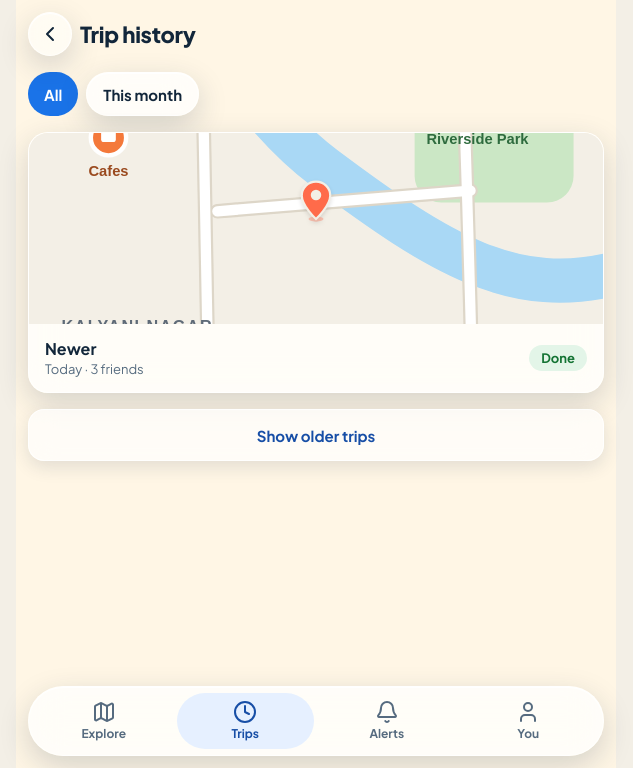
Test: Trip history › loads older trips on request
Click the button "Show older trips" at (316, 435), box [28,409,604,461]
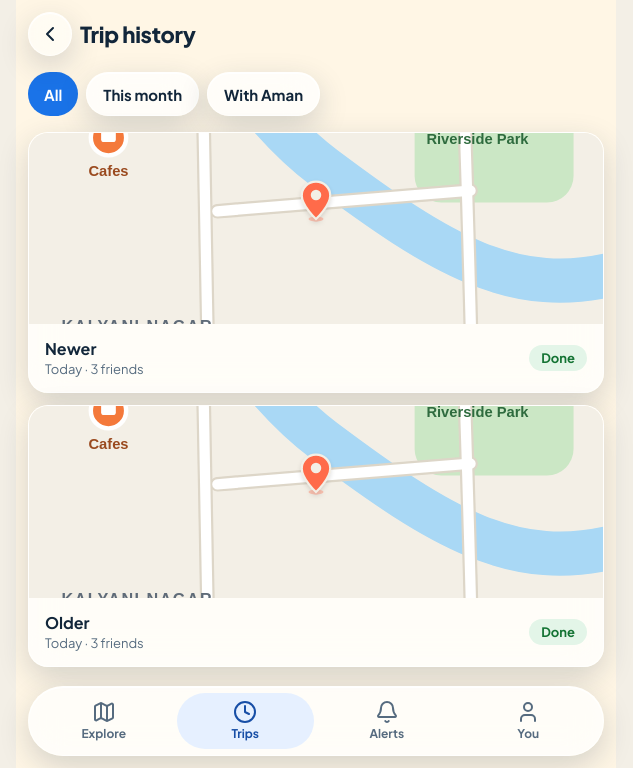
Expected: the heading "Older" is shown, [45,612,90,633]
Expected: the button "Show older trips" is gone
